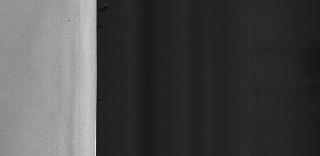inclusion: (66, 10, 72, 22)
silk spot: (1, 2, 40, 152)
